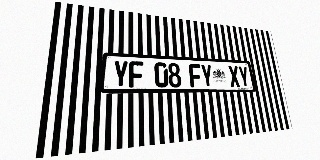0: (154, 62, 168, 87)
8: (168, 63, 182, 87)
F: (129, 61, 144, 87), (188, 64, 202, 87)
X: (228, 65, 241, 87)
Y: (112, 60, 128, 88), (200, 64, 214, 87), (238, 66, 250, 87)
